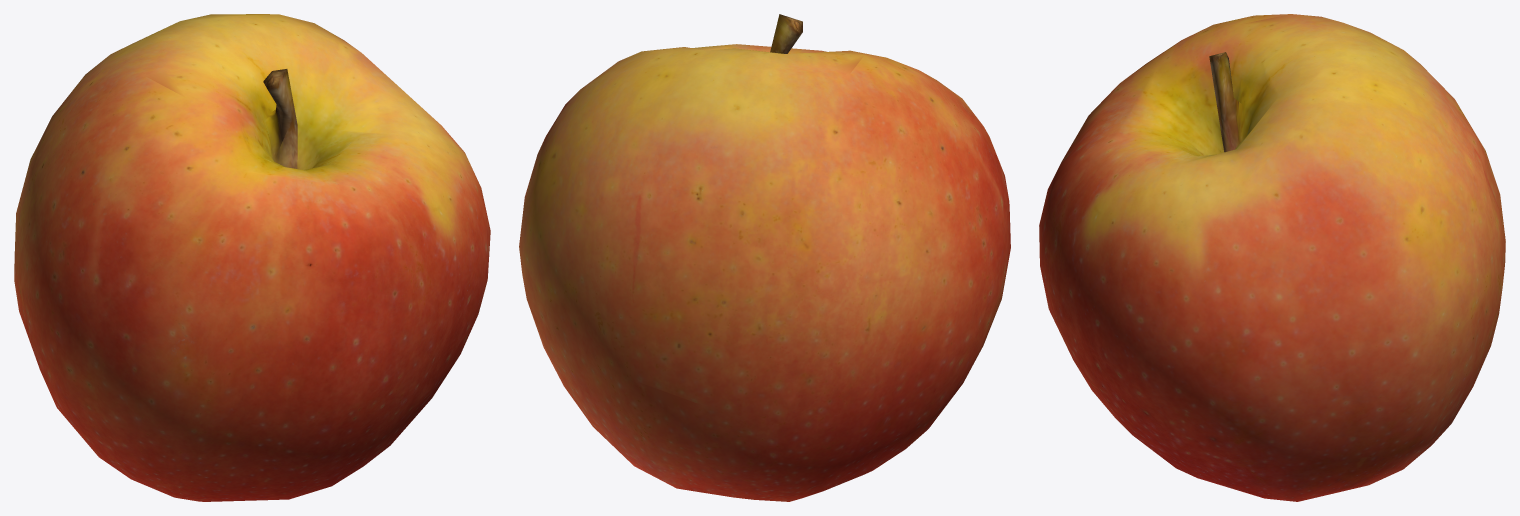
3 views of the same model, side by side, from view 1: azimuth 30°, elevation 25°; view 2: azimuth 150°, elevation 25°; view 3: azimuth 270°, elevation 25° (orthographic). The views are drawn at different scales.
Visible parts, largest first — view 1: 3DApple002-0; view 2: 3DApple002-0; view 3: 3DApple002-0.
Boxes of the visible parts, x1,y1,x2,y2 form: 3DApple002-0: (14, 14, 490, 501); 3DApple002-0: (519, 14, 1010, 501); 3DApple002-0: (1039, 14, 1505, 501).
Bounding box in the file's own units: 1.03 × 1 × 1.02.
Materials: 1 (1 with a texture image).
